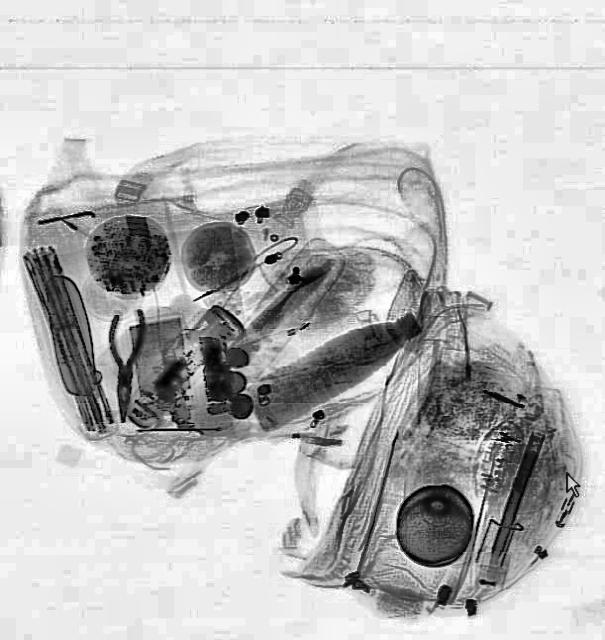Pliers: (104, 308, 144, 422)
